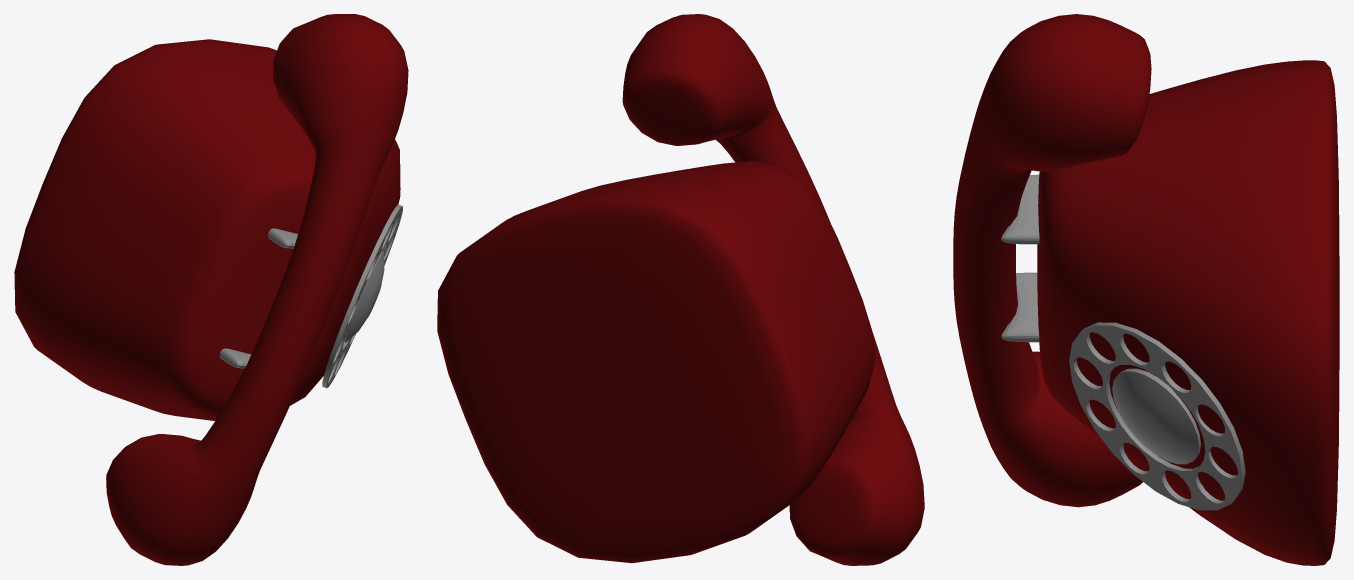
File: phone_padre.fbx
The picture shows the model from 3 angles, left to right: view 1: azimuth 30°, elevation 25°; view 2: azimuth 150°, elevation 25°; view 3: azimuth 270°, elevation 25°; orthographic projection. The views are drawn at different scales.
Visible parts, largest first — view 1: phone_base, phone_handset, phone_dial, phone_hook; view 2: phone_base, phone_handset; view 3: phone_base, phone_handset, phone_dial, phone_hook.
Part boxes in pixels (box(x1,y1,x2,y2)): phone_base: box(14, 39, 400, 420); phone_handset: box(106, 14, 408, 565); phone_dial: box(322, 205, 402, 388); phone_hook: box(219, 228, 297, 368); phone_base: box(437, 161, 875, 563); phone_handset: box(622, 14, 924, 565); phone_base: box(1037, 60, 1339, 565); phone_handset: box(953, 14, 1151, 507); phone_dial: box(1069, 322, 1245, 510); phone_hook: box(1001, 174, 1039, 342).
Size of the model in its own units: 141 by 182 by 110.
